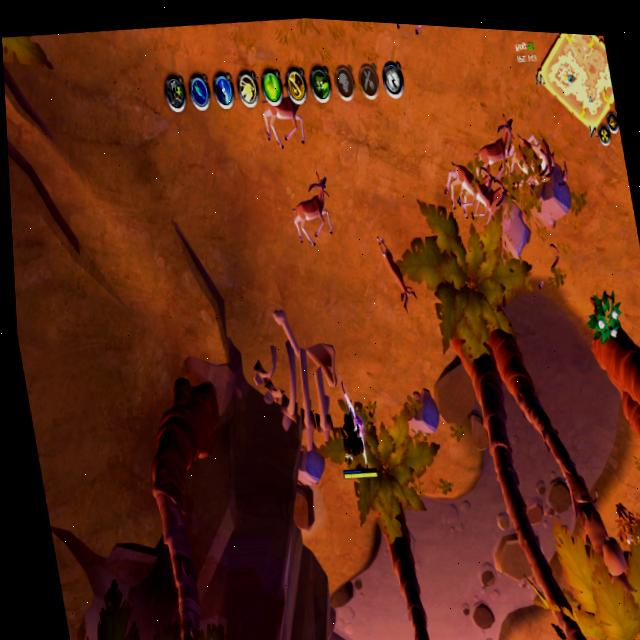hide: (584, 289, 626, 347), (610, 496, 640, 554)
mob: (437, 152, 511, 232), (252, 62, 312, 158), (282, 170, 341, 253), (500, 123, 556, 195), (470, 109, 522, 173), (390, 23, 434, 41)
ore: (375, 231, 420, 315)
red: (331, 405, 379, 486)
